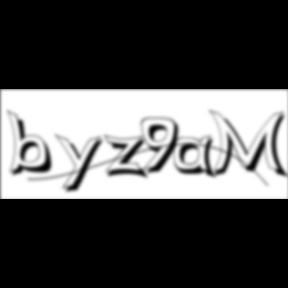9: (140, 117, 186, 177)
a: (173, 135, 221, 182)
b: (6, 109, 60, 179)
y: (55, 132, 109, 196)
z: (104, 134, 152, 182)
